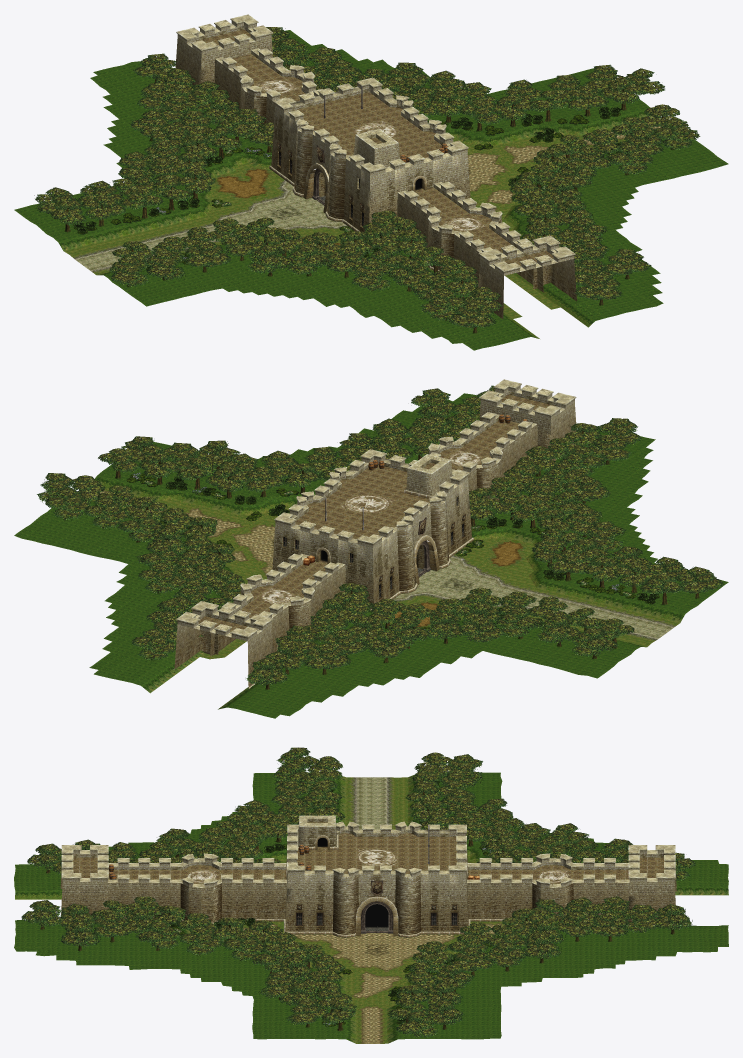
3 renders of one model, top to bottom at view 1: azimuth 30°, elevation 25°; view 2: azimuth 150°, elevation 25°; view 3: azimuth 270°, elevation 25°, orthographic. The views are drawn at different scales.
Visible parts, largest first — view 1: mesh_CD3DFile_Mesh (×125); view 2: mesh_CD3DFile_Mesh (×128); view 3: mesh_CD3DFile_Mesh (×115).
Part boxes in pixels (x1,y1,x2,y2): mesh_CD3DFile_Mesh (×125): (30,21,706,350); mesh_CD3DFile_Mesh (×128): (37,386,714,711); mesh_CD3DFile_Mesh (×115): (14,755,728,1039).
Size of the model in its own units: 130 by 16.8 by 138.
17 materials, 17 textured.
